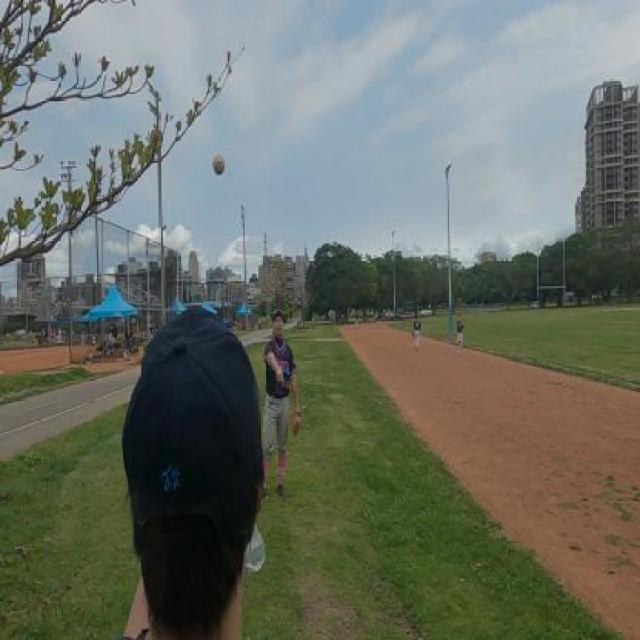baseball: (212, 154, 225, 175)
